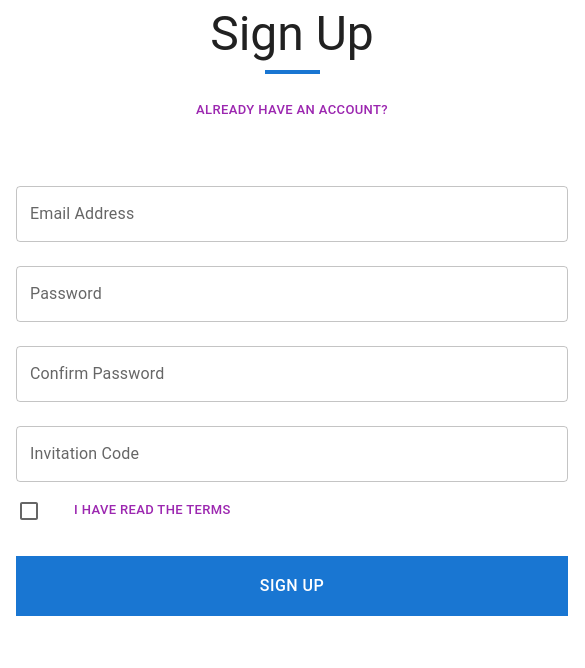
Test case: SignUp › should display email error when submitting an empty form
Click the button "Sign up" at (292, 586), box [16, 556, 568, 616]
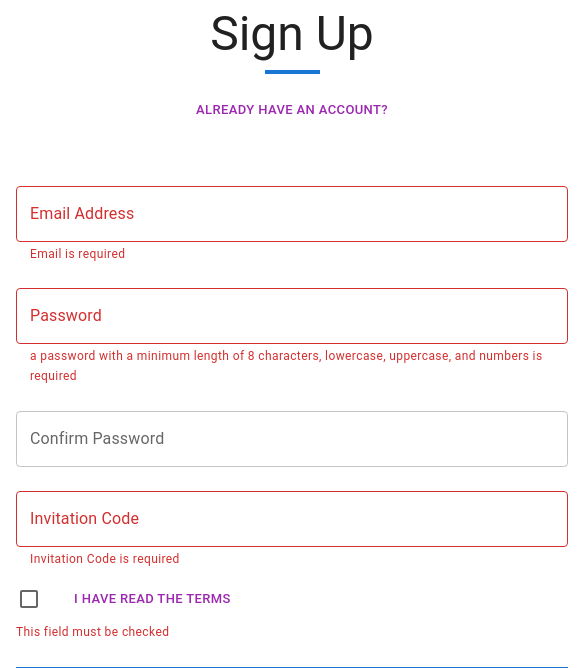
Check: the text "Email is required" is shown, box [30, 247, 125, 261]
